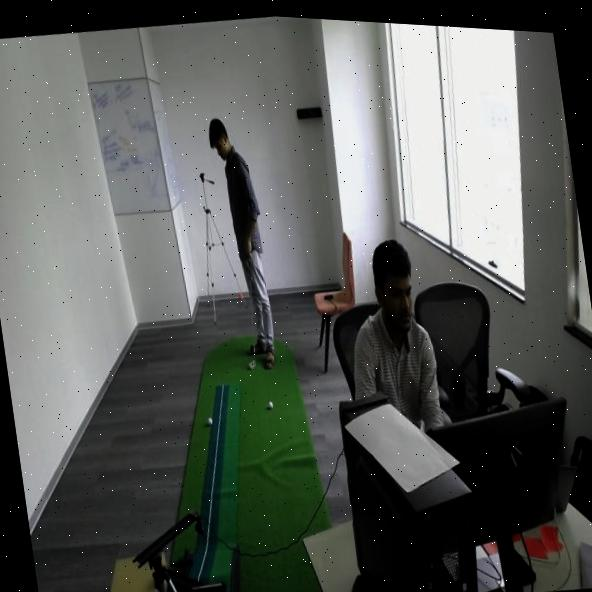ClubHead: (240, 343, 268, 377)
GolfBall: (264, 391, 278, 413), (205, 409, 216, 427)
